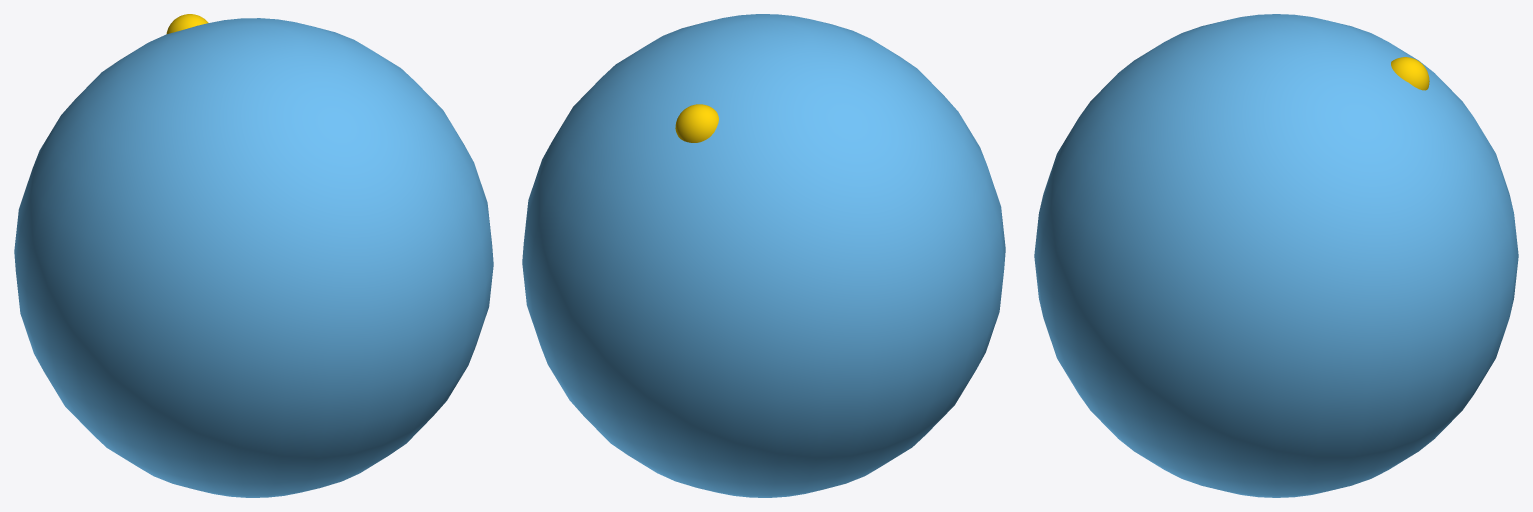
Rendered from skybox.fbx.
3 views of the same model, side by side, from view 1: azimuth 30°, elevation 25°; view 2: azimuth 150°, elevation 25°; view 3: azimuth 270°, elevation 25° (orthographic).
Visible parts, largest first — view 1: Sphere; view 2: Sphere, Sphere.001; view 3: Sphere, Sphere.001.
Part boxes in pixels (<box>): Sphere: <box>14,18,493,497</box>; Sphere: <box>522,14,1005,497</box>; Sphere.001: <box>675,104,718,142</box>; Sphere: <box>1034,14,1518,497</box>; Sphere.001: <box>1391,57,1429,90</box>.
Bounding box in the file's own units: 2000 × 2000 × 2000.
